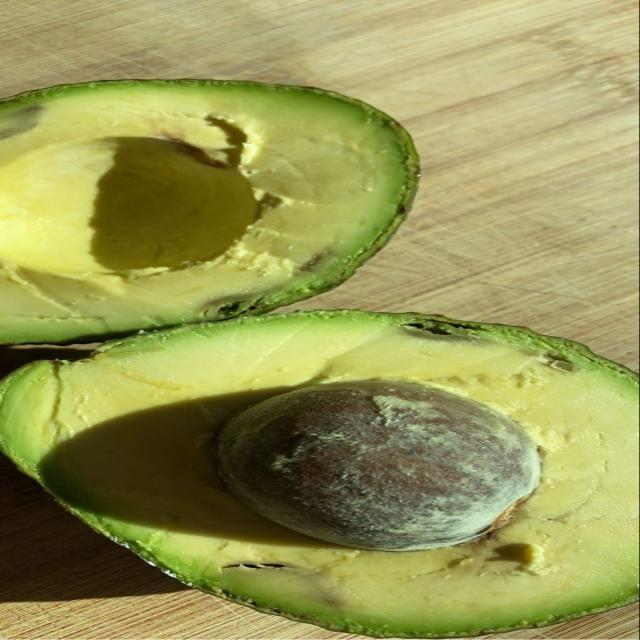avocado: (0, 311, 638, 637), (0, 80, 419, 343), (216, 380, 540, 550)
